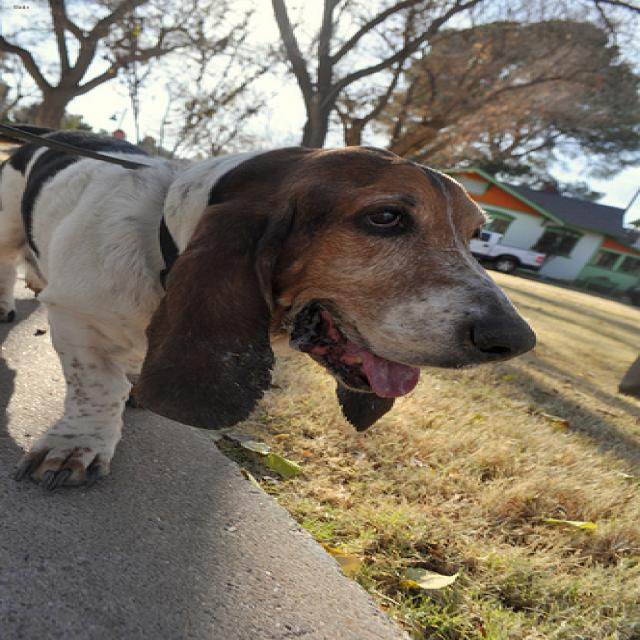dog-basset_hound: (2, 119, 557, 489)
